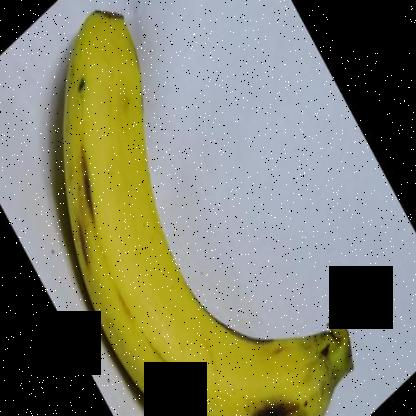freshripe: (58, 5, 368, 415)
